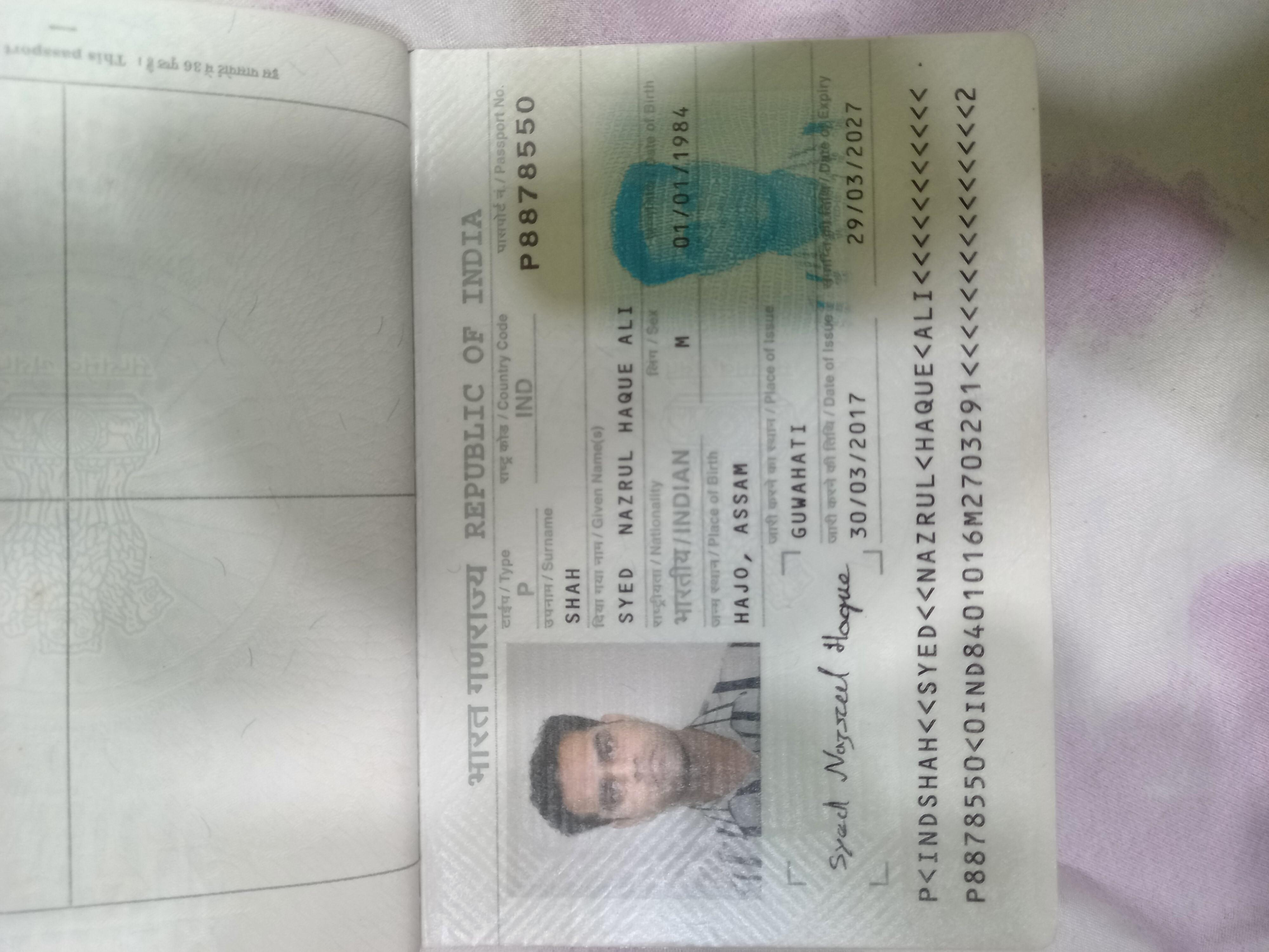DOB: (924, 493, 1131, 530)
Surname: (429, 418, 531, 439)
country_code: (702, 382, 789, 404)
date_of_expiry: (926, 628, 1156, 660)
date_of_issue: (535, 630, 765, 657)
details: (38, 675, 1168, 753)
name: (417, 456, 893, 480)
nationality: (415, 497, 695, 526)
passport_no: (888, 380, 1157, 411)
photo: (66, 380, 406, 569)
place_of_birth: (434, 541, 668, 574)
place_of_issue: (531, 584, 722, 614)
sex: (789, 499, 846, 531)
sign: (95, 608, 517, 659)
type: (455, 382, 508, 407)
